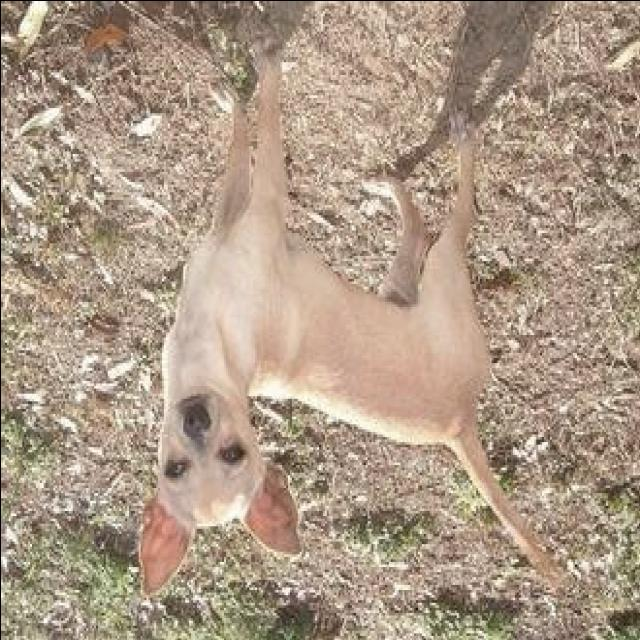chihuahua: (136, 31, 562, 599)
